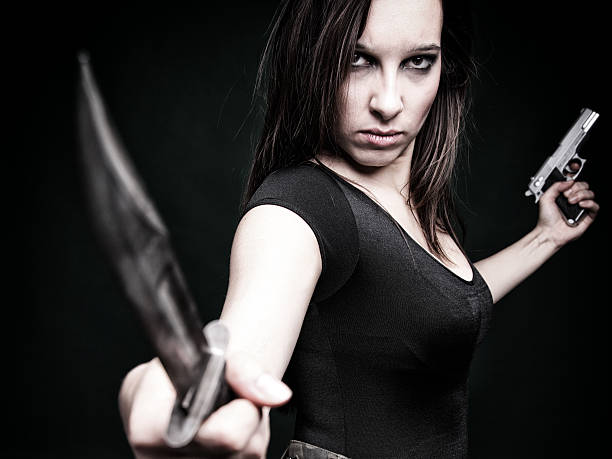gun: (522, 105, 601, 225)
knife: (77, 57, 230, 449)
